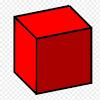cube: (14, 5, 93, 95)
